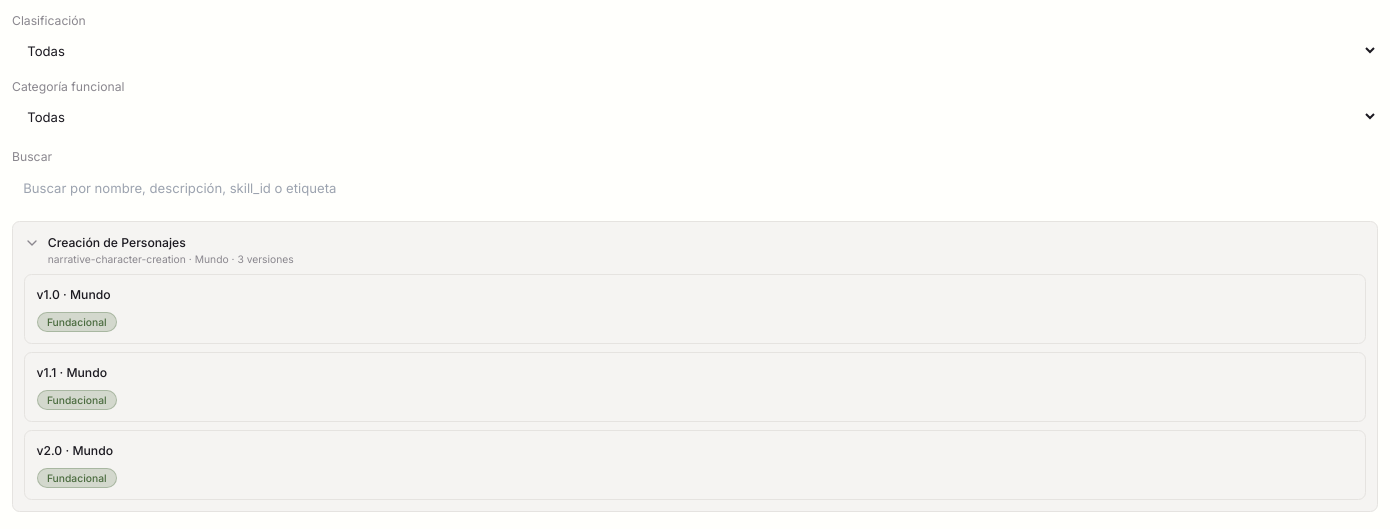
Test case: GlobalMethodologyLibrary — catalog grouped by skill (TW7 presentation) › degrades a multi-version skill to a plain row when only one version survives the query
This screenshot has width=1390, height=529.
Expected: the text "v1.0 · Mundo" is shown, top-left (36, 287), bottom-right (111, 302)
Note: "Revisión" matches only v1.1 — the skill now has exactly one survivor.
In the search field: x=695, y=188 top-left (12, 170), bottom-right (1378, 206), type "Revisión"
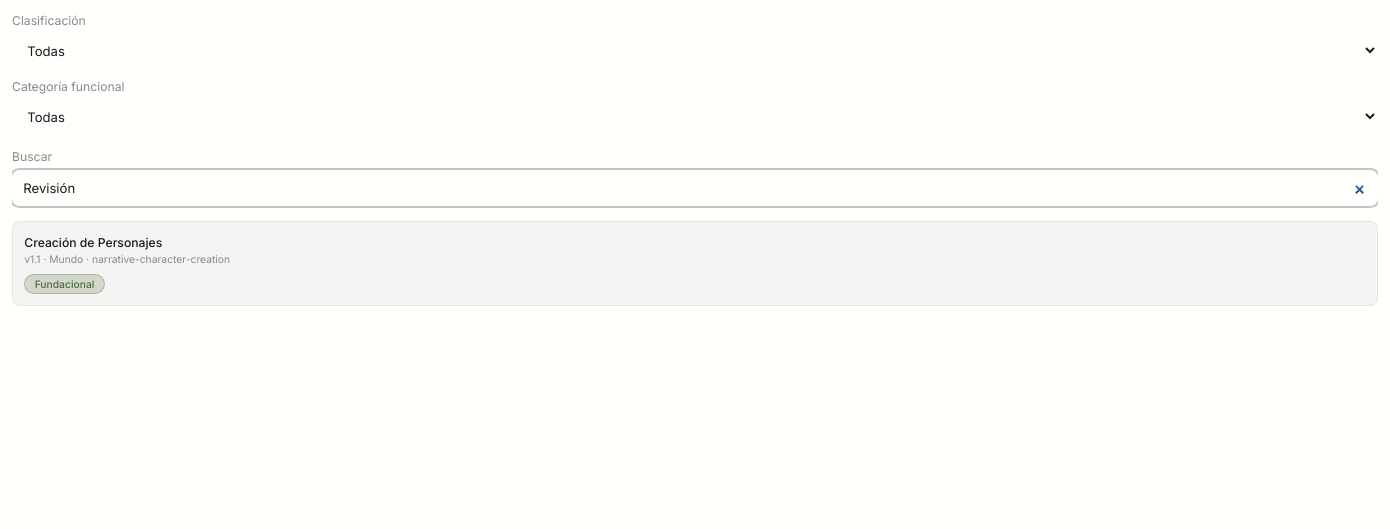
Expected: the text "v1.1 · Mundo · narrative-character-creation" is shown, top-left (24, 253), bottom-right (230, 265)
Expected: the button "v1.0 · Mundo" is gone
Expected: the button "v2.0 · Mundo" is gone
